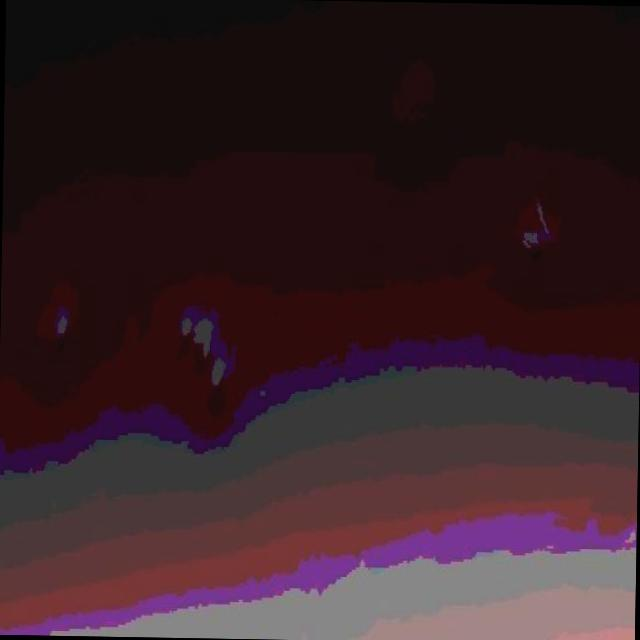dent: (168, 296, 238, 388), (497, 197, 570, 267), (381, 55, 436, 133), (46, 295, 84, 350)
